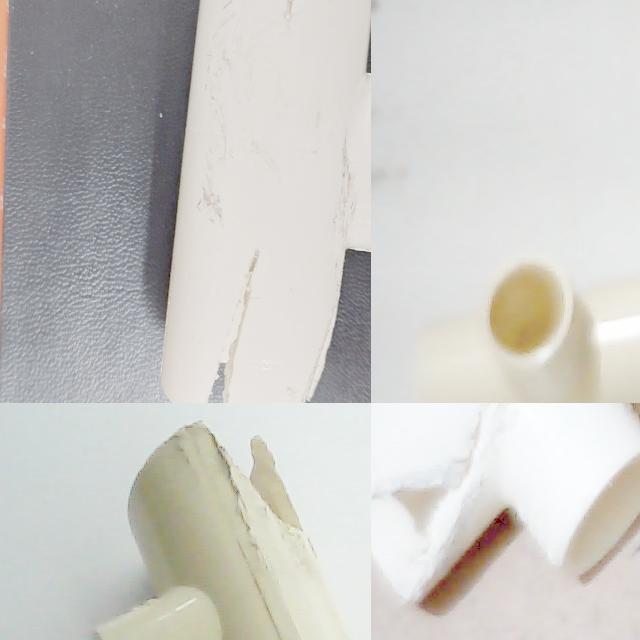Defective: (371, 403, 524, 600), (200, 422, 306, 534), (185, 181, 325, 265), (224, 438, 299, 530)
T Joint: (0, 0, 323, 292), (93, 421, 351, 640), (371, 403, 640, 602), (415, 253, 640, 403)
